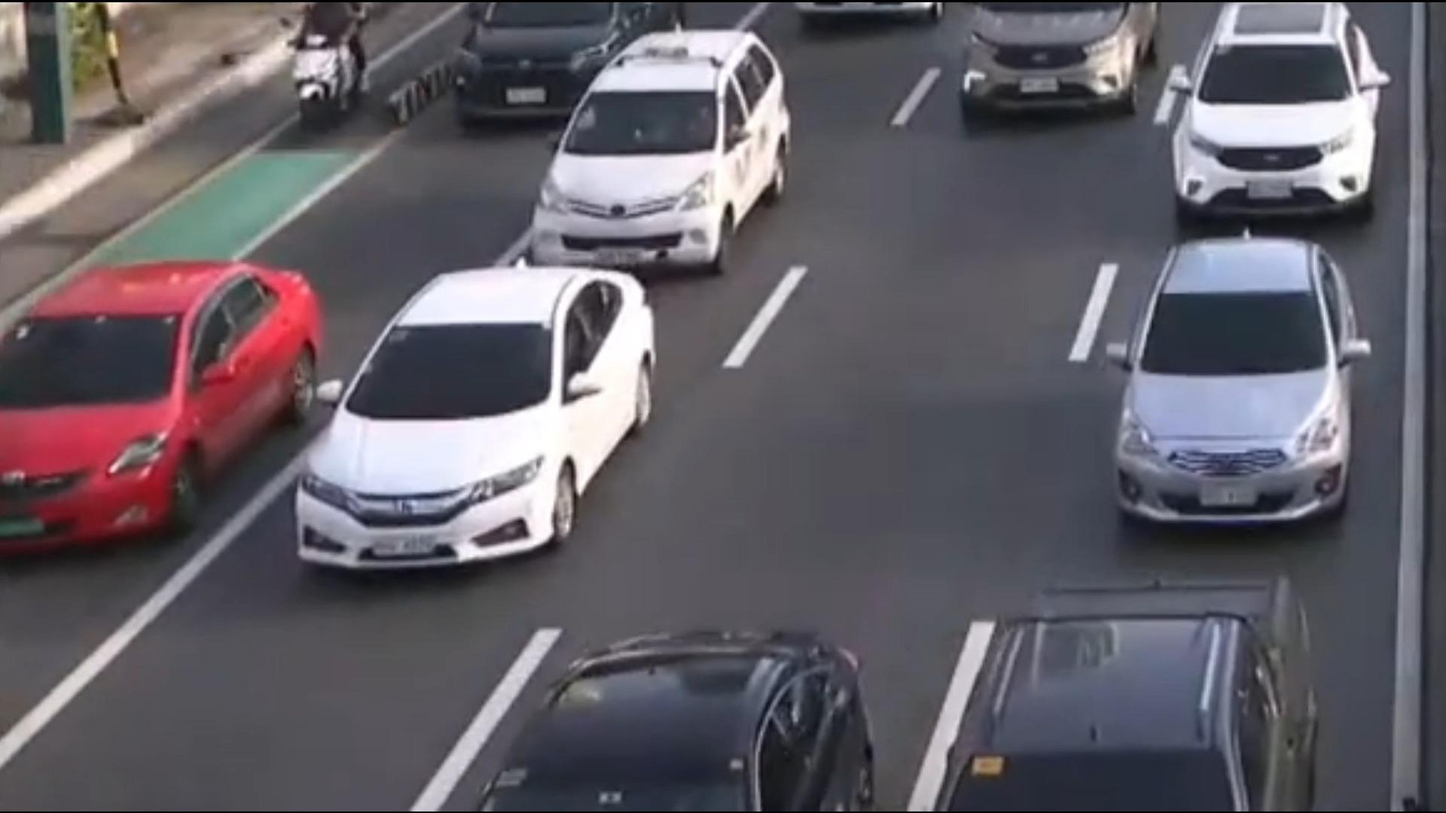Motorcycle: (286, 0, 372, 151)
SUV: (923, 566, 1327, 808), (509, 19, 801, 280), (1163, 0, 1395, 233), (952, 0, 1166, 132)
Sedan: (286, 246, 669, 587), (0, 250, 336, 577), (1077, 236, 1377, 544), (453, 617, 886, 813), (444, 0, 699, 134)
